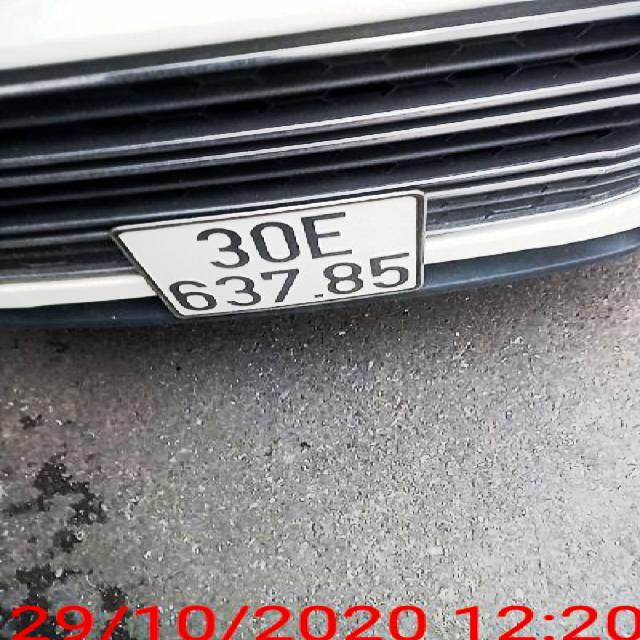license_plate: (113, 193, 430, 321)
